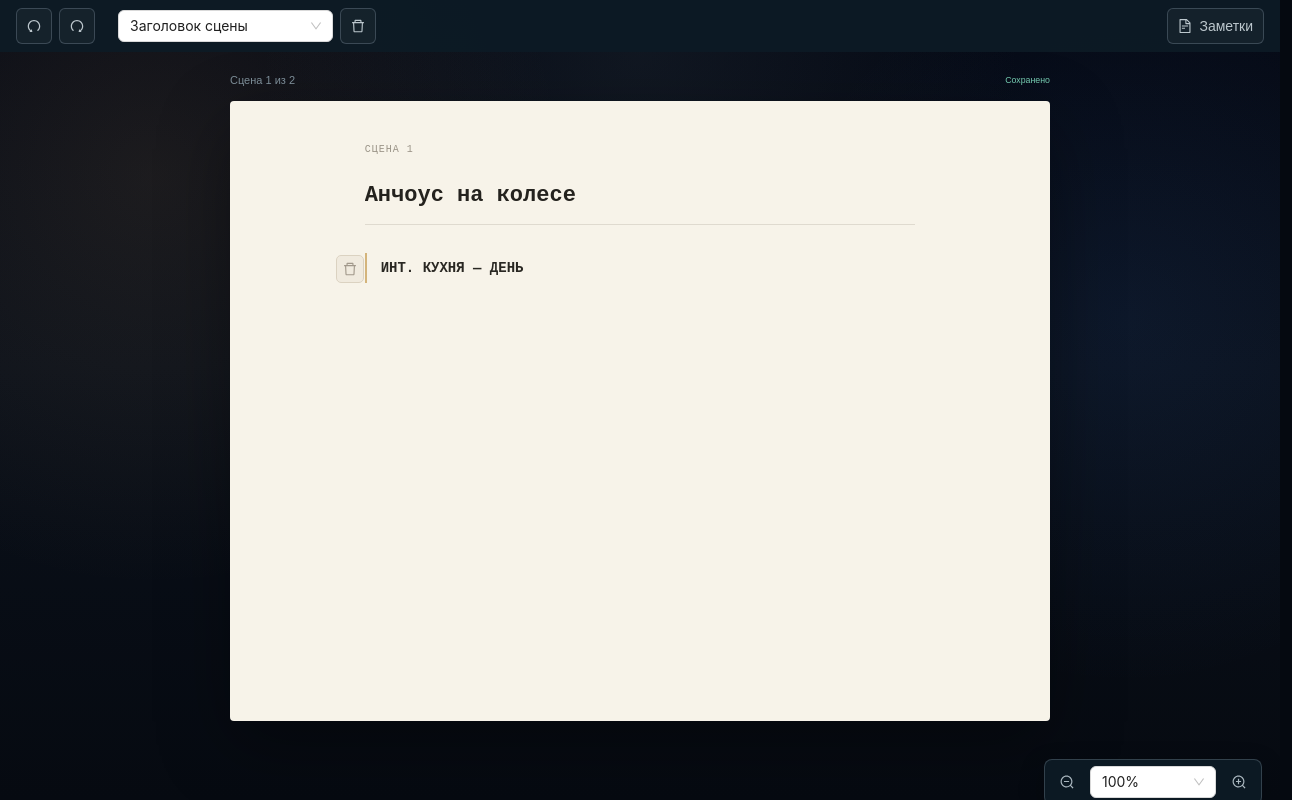
Test: keeps private scene notes closed until the user asks for them
This screenshot has width=1292, height=800.
Click the button with aria-label "Заметки сцены": (1216, 26) [1168,8,1264,44]
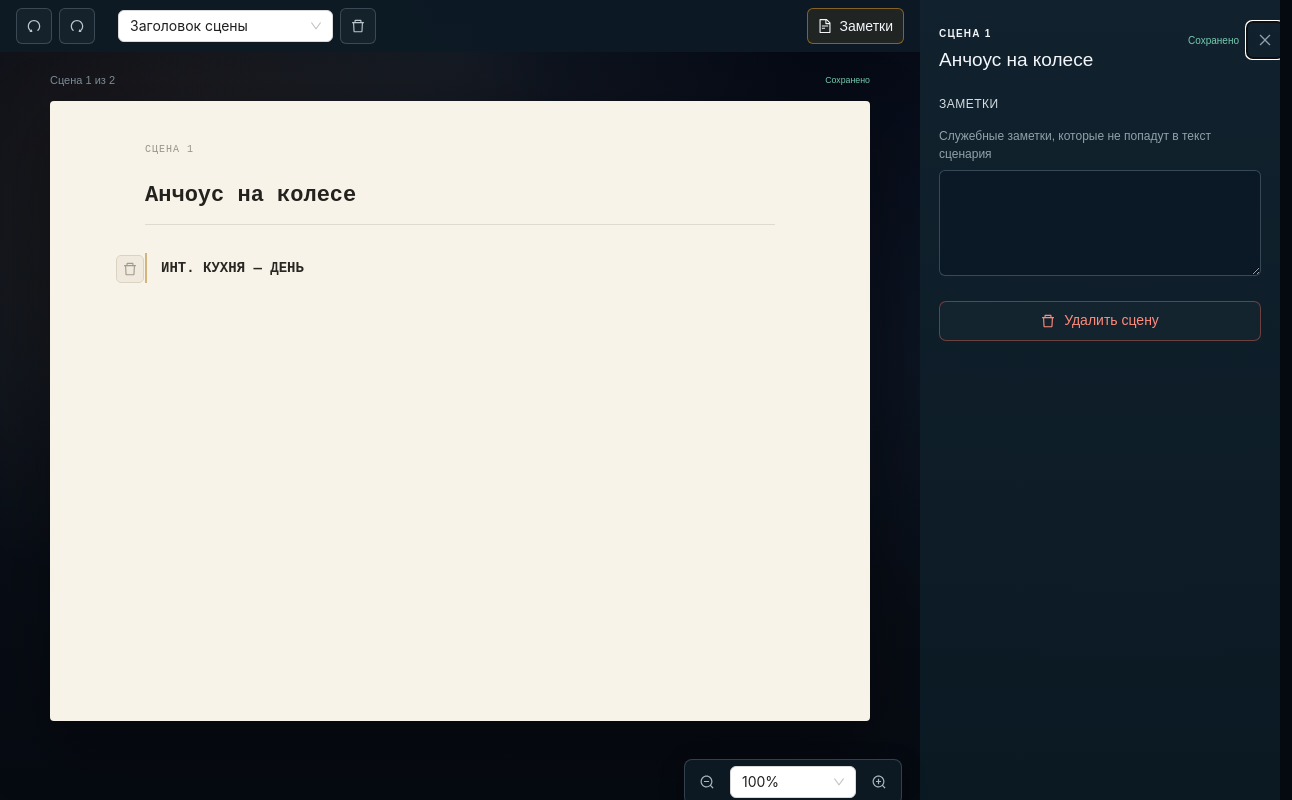
Now the heading "Заметки" is shown, box [939,97,999,111]
